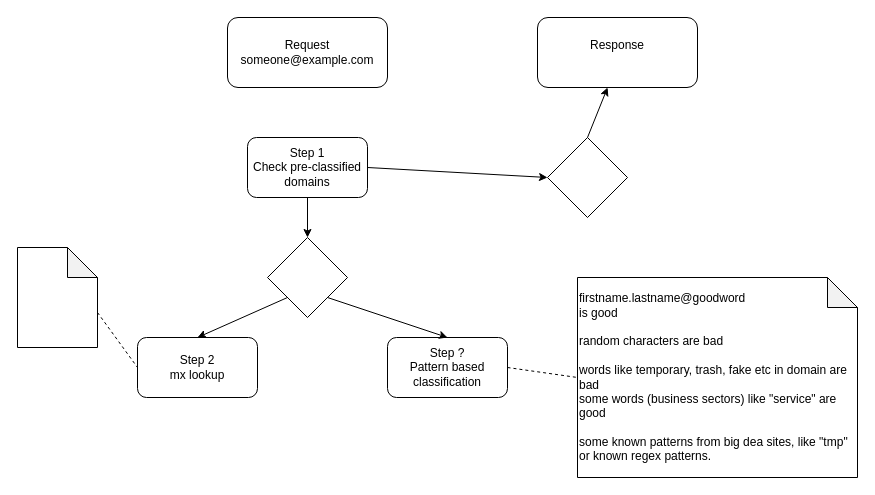
Some shapes in this 875 by 495 pixel diagram are drawn without their labels. The centre of each missing label's shape, as x and y in pixels:
found: (587,177)
not found: (307,277)
with cache: (57,297)
